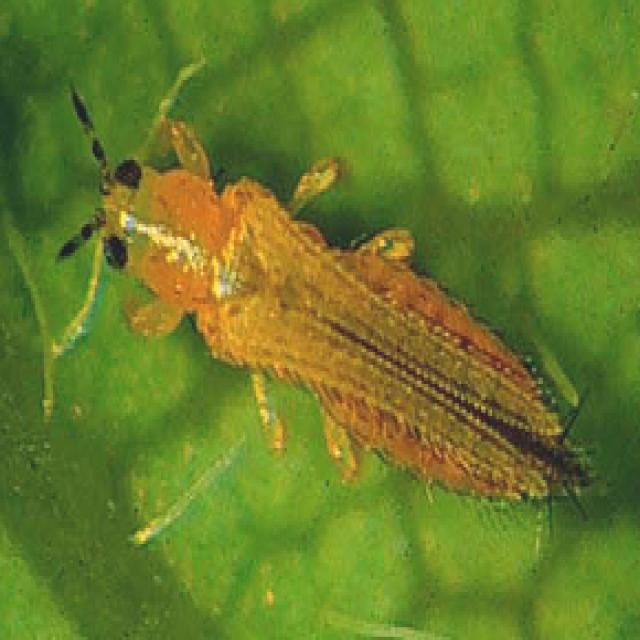Thrip-Adult-: (59, 78, 600, 528)
